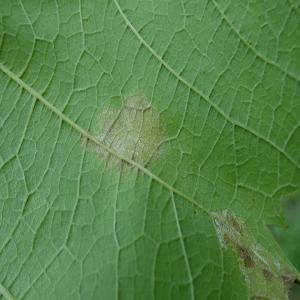Folha: (0, 0, 299, 299)
Fungo: (210, 207, 296, 299), (83, 90, 167, 178)
